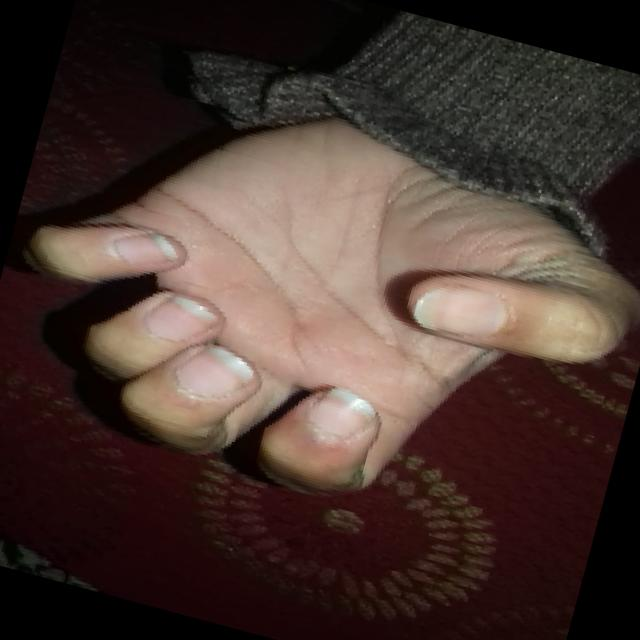Nail: (413, 288, 508, 336), (175, 346, 255, 399), (307, 388, 377, 445), (144, 295, 216, 341), (113, 234, 176, 265)
